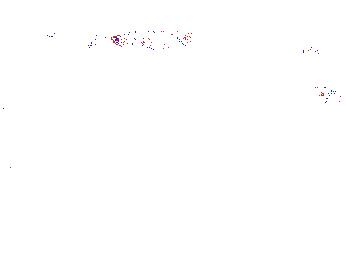red belly glassfish: (300, 46, 328, 59)
redtail glassfish: (109, 28, 194, 53), (46, 29, 101, 58), (309, 80, 346, 111)
